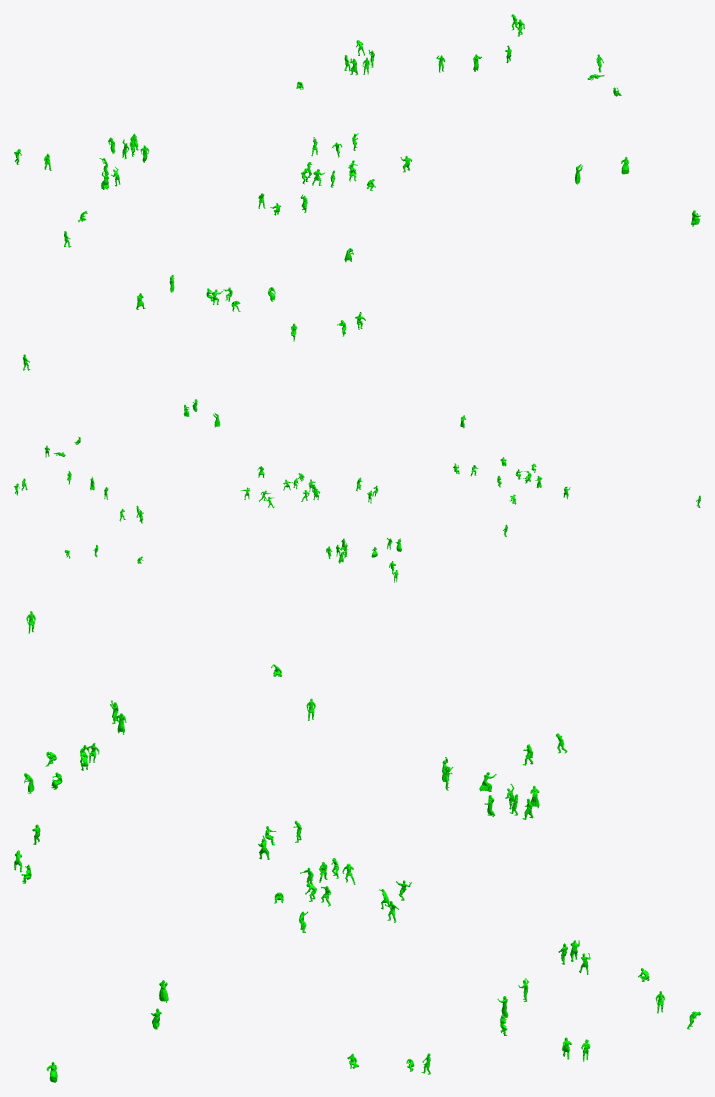
Rendered from SM_People_Harbour.fbx.
The picture shows the model from 3 angles, top to bottom: view 1: azimuth 30°, elevation 25°; view 2: azimuth 150°, elevation 25°; view 3: azimuth 270°, elevation 25°; orthographic projection. The views are drawn at different scales.
Visible parts, largest first — view 1: SM_People_Harbour; view 2: SM_People_Harbour; view 3: SM_People_Harbour.
Boxes of the visible parts, x1,y1,x2,y2 form: SM_People_Harbour: [14, 14, 700, 370]; SM_People_Harbour: [14, 399, 700, 582]; SM_People_Harbour: [14, 611, 700, 1082].
Size of the model in its own units: 82.61 by 9.32 by 53.1.
